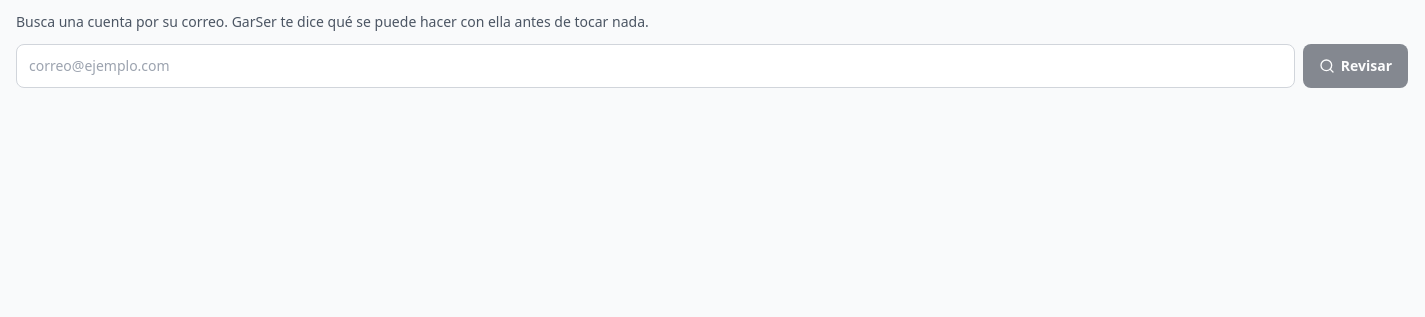
Test case: Dar de baja o suspender una cuenta (F6) › sin historial ofrece borrar; con historial, dar de baja; un cliente no se suspende
Step 1. Type "c@x.es" into the field named "Correo de la cuenta" → (655, 66), box x1=16 y1=44 x2=1295 y2=88
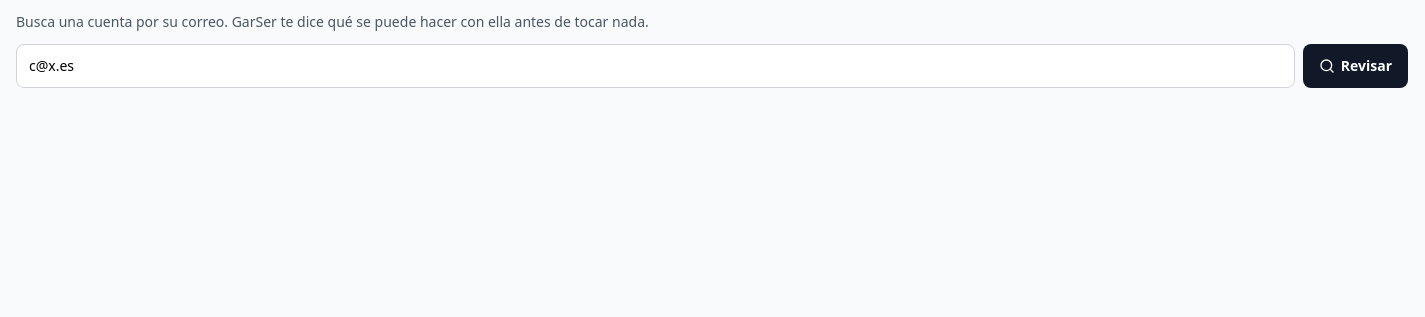
Step 2. Click the button "Revisar" → (1355, 66), box x1=1303 y1=44 x2=1408 y2=88
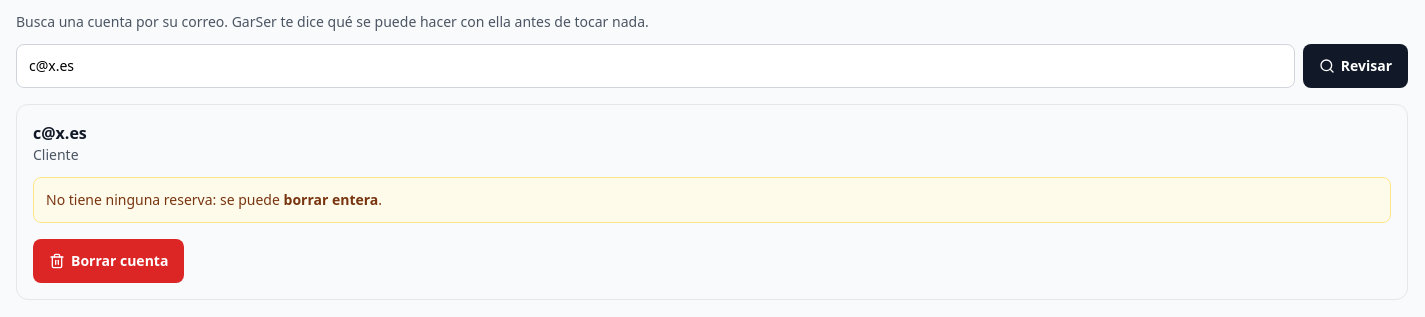
expect the button "Borrar cuenta" is shown: met, box x1=33 y1=239 x2=184 y2=283
Step 3. Replace the text in the field named "Correo de la cuenta" with "h@x.es" → (655, 66), box x1=16 y1=44 x2=1295 y2=88
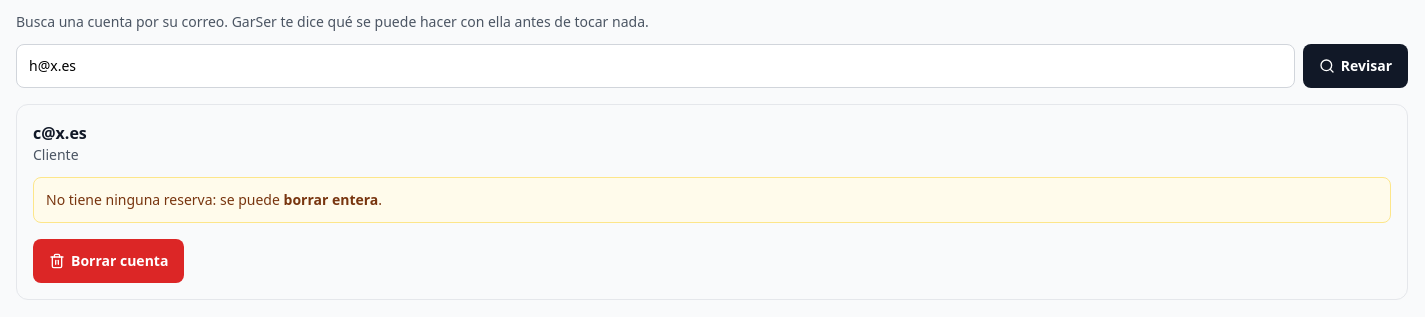
Step 4. Click the button "Revisar" → (1355, 66), box x1=1303 y1=44 x2=1408 y2=88
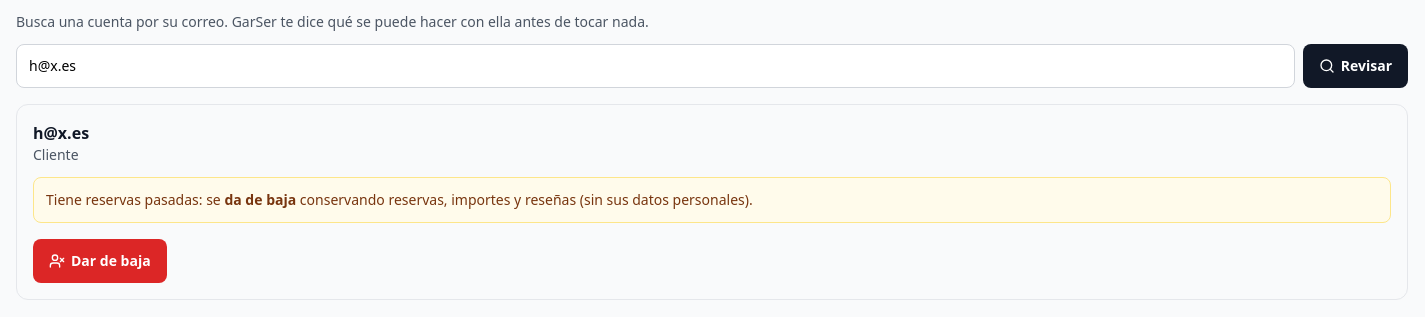
expect the button "Dar de baja" is shown: met, box x1=33 y1=239 x2=167 y2=283
